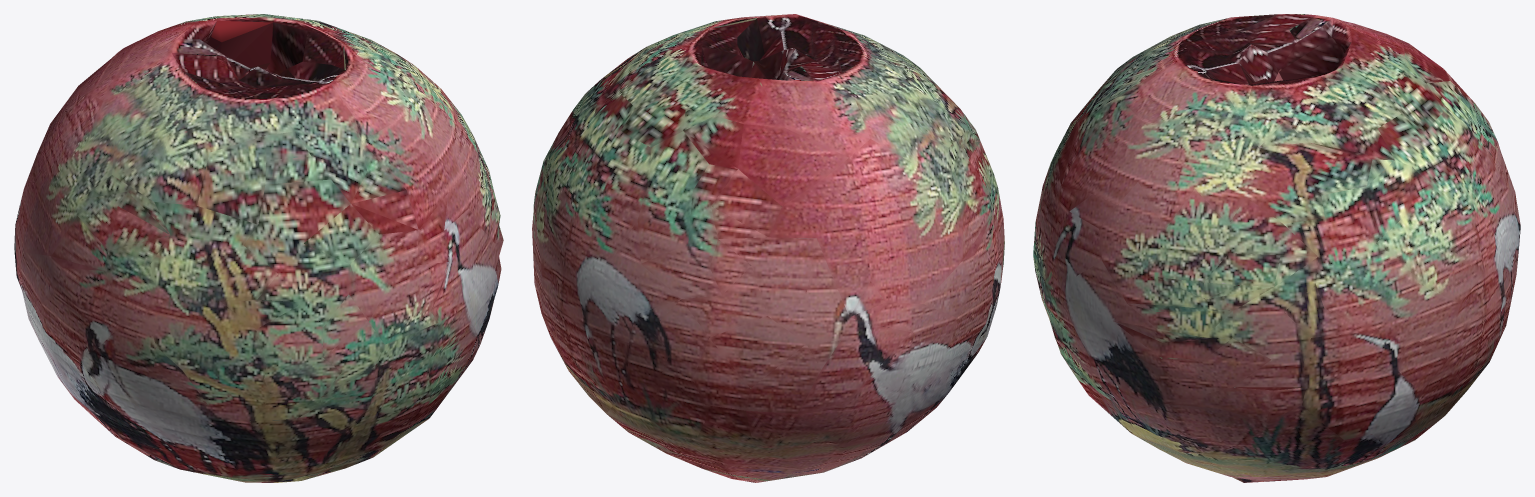
File: AT4 Ester Pine Egrets2-512.glb
3 renders of one model, left to right at view 1: azimuth 30°, elevation 25°; view 2: azimuth 150°, elevation 25°; view 3: azimuth 270°, elevation 25°, orthographic. The views are drawn at different scales.
Bounding box in the file's own units: 990 × 972 × 1000.
1 material, 1 textured.
